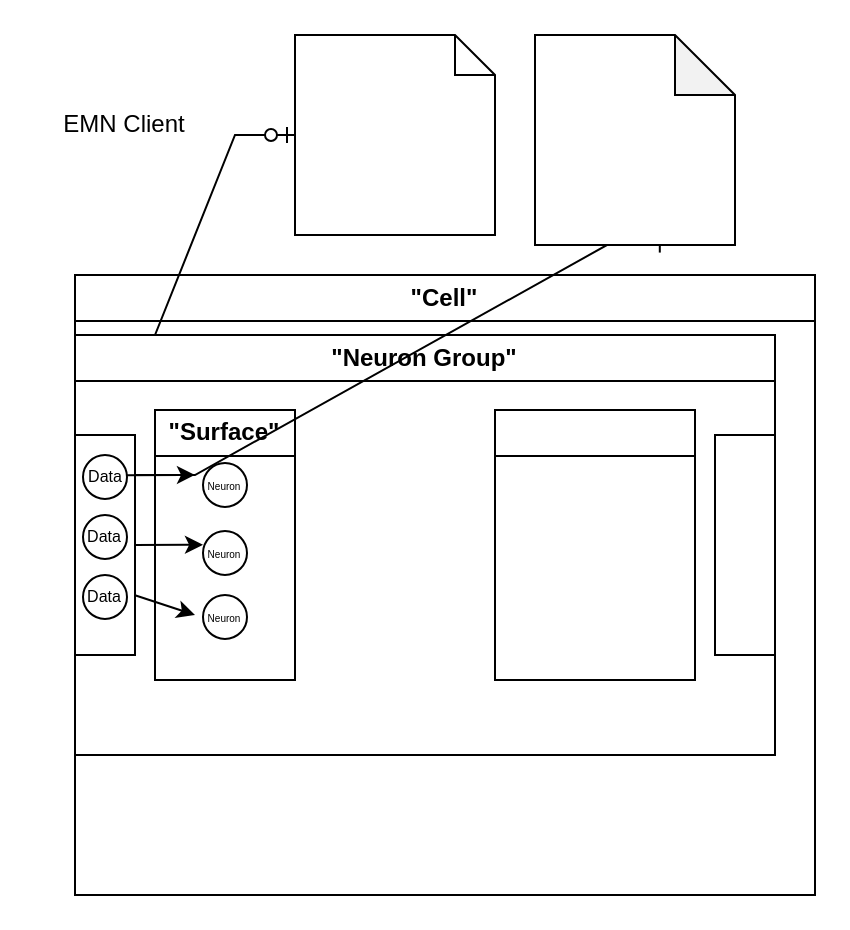
The diagram is 850 pixels wide and 930 high, and some of its shapes have lost their labels. The centre of each missing label's shape, as x and y in pixels:
"BackSurface ": the point at 594,544
*All datastreams are unsigned integer-16bit type: the point at 634,139
The Neuron is a mathematical expression: the point at 394,134
